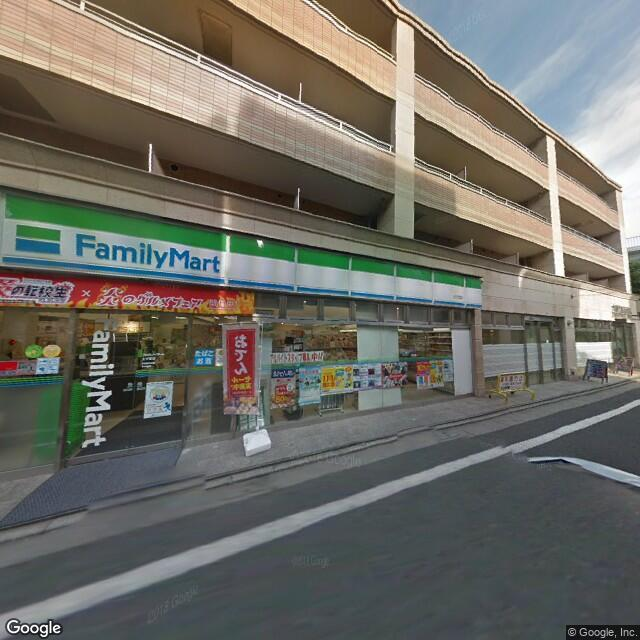family_mart: (1, 190, 485, 312), (13, 214, 222, 283), (82, 315, 113, 452)
